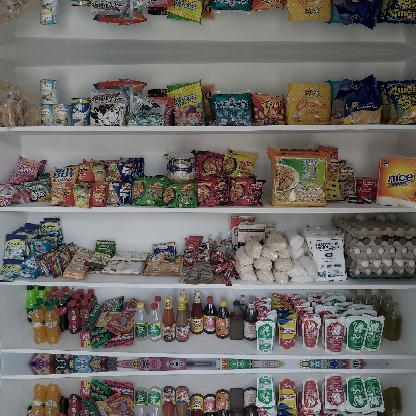Lady-s-Choice: (166, 151, 196, 183)
